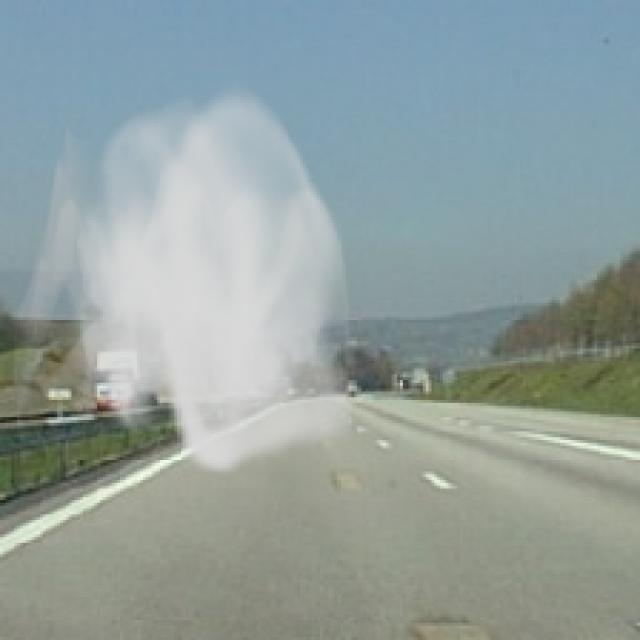Smoke: (8, 77, 363, 477)
